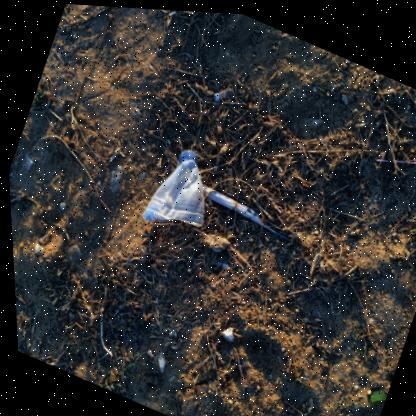Plastic: (140, 147, 202, 223), (375, 154, 416, 158)
Waste: (200, 180, 287, 236), (366, 382, 383, 397), (213, 84, 230, 98)
